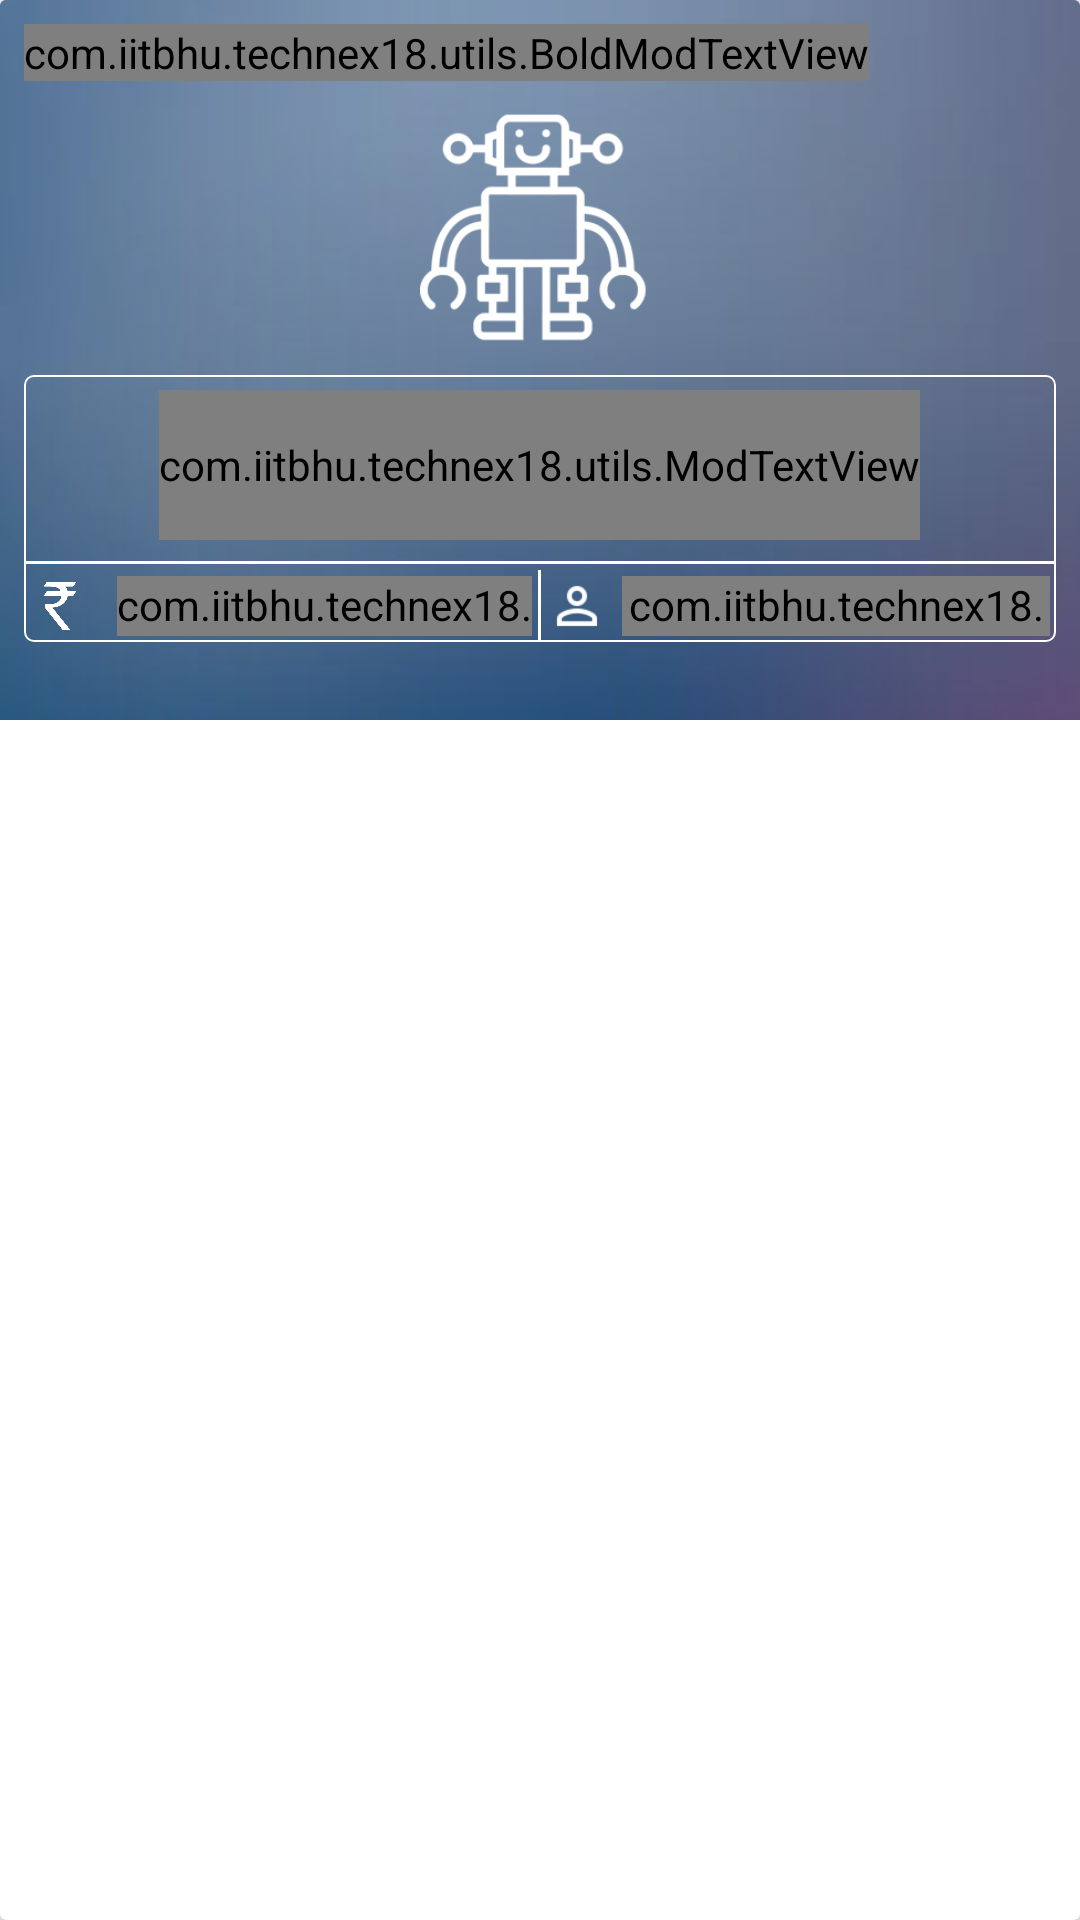

Icons on this 1080*1920 Android screen, each with its box as (x1, y1, x2, y2):
account: (557, 585, 597, 626)
robo: (405, 93, 675, 341)
rupee: (44, 582, 76, 630)
